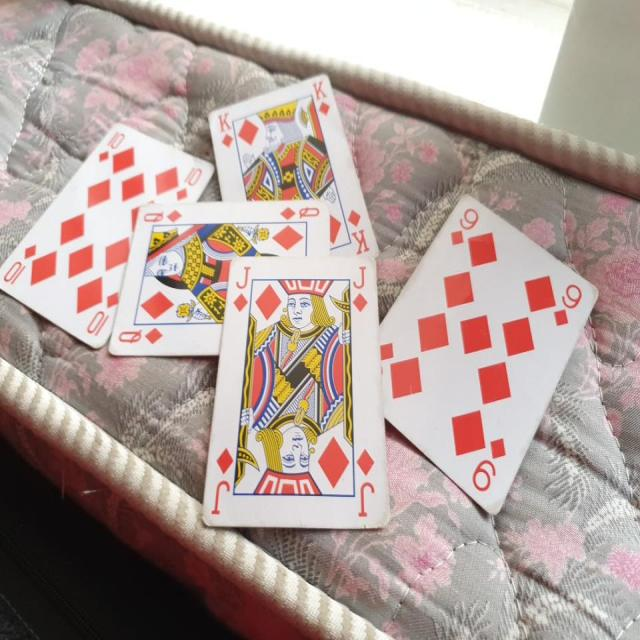10 Diamonds: (1, 119, 215, 352)
9 Diamonds: (380, 192, 602, 517)
J Diamonds: (201, 252, 392, 532)
K Diamonds: (207, 76, 382, 265)
Q Diamonds: (108, 199, 330, 357)
